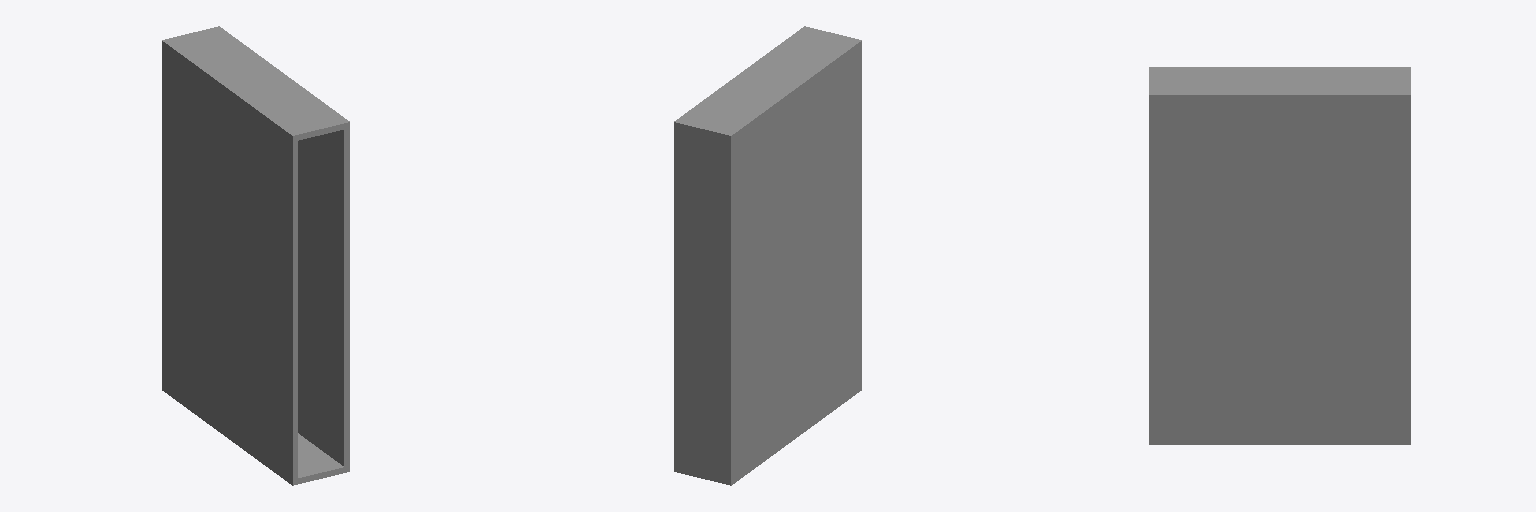
Rendered from tray-space-150.obj.
3 renders of one model, left to right at view 1: azimuth 30°, elevation 25°; view 2: azimuth 150°, elevation 25°; view 3: azimuth 270°, elevation 25°, orthographic.
Visible parts, largest first — view 1: Cube.002_Cube.004, Cube.001_Cube.003, Cube.004_Cube.005, Cube.003_Cube.001; view 2: Cube.002_Cube.004, Cube.000, Cube.004_Cube.005, Cube.001_Cube.003; view 3: Cube.001_Cube.003, Cube.004_Cube.005, Cube.002_Cube.004.
Boxes of the visible parts, box(x1,y1,x2,y2) form: Cube.002_Cube.004: box(162, 39, 297, 485); Cube.001_Cube.003: box(214, 26, 349, 472); Cube.004_Cube.005: box(171, 30, 343, 140); Cube.003_Cube.001: box(298, 433, 343, 483); Cube.002_Cube.004: box(726, 39, 861, 485); Cube.000: box(680, 121, 728, 483); Cube.004_Cube.005: box(683, 28, 855, 131); Cube.001_Cube.003: box(674, 26, 809, 472); Cube.001_Cube.003: box(1149, 92, 1410, 444); Cube.004_Cube.005: box(1149, 70, 1403, 91); Cube.002_Cube.004: box(1149, 67, 1410, 69).
Bounding box in the file's own units: 30 × 174 × 118.